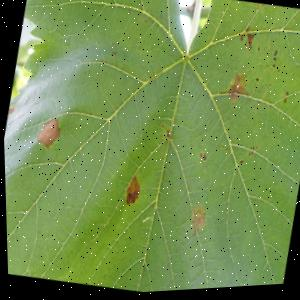Folha: (0, 0, 300, 300)
Fungo: (140, 122, 222, 242), (224, 23, 300, 116), (195, 136, 258, 174), (34, 114, 63, 152), (224, 72, 249, 109), (185, 205, 207, 239), (121, 174, 142, 208), (236, 26, 256, 55), (237, 144, 258, 170), (157, 124, 171, 141), (238, 26, 250, 45), (244, 34, 254, 54), (139, 215, 151, 230), (193, 215, 204, 228), (246, 146, 256, 160), (6, 102, 15, 117), (271, 52, 278, 70), (196, 153, 207, 164), (281, 94, 288, 107), (159, 124, 167, 133), (164, 131, 169, 140), (109, 51, 115, 58), (244, 27, 250, 34), (246, 47, 252, 54), (201, 155, 206, 163), (197, 154, 202, 160), (266, 47, 272, 52), (223, 148, 227, 154), (282, 99, 286, 105), (240, 37, 243, 44), (238, 161, 242, 166), (249, 148, 253, 153), (256, 48, 259, 54), (273, 53, 276, 59), (251, 105, 254, 111), (271, 66, 275, 70), (272, 59, 276, 63), (266, 102, 270, 106), (254, 80, 257, 84), (220, 146, 223, 150), (246, 154, 249, 158), (276, 71, 279, 75), (253, 148, 256, 152), (265, 66, 268, 70), (252, 155, 255, 159)
